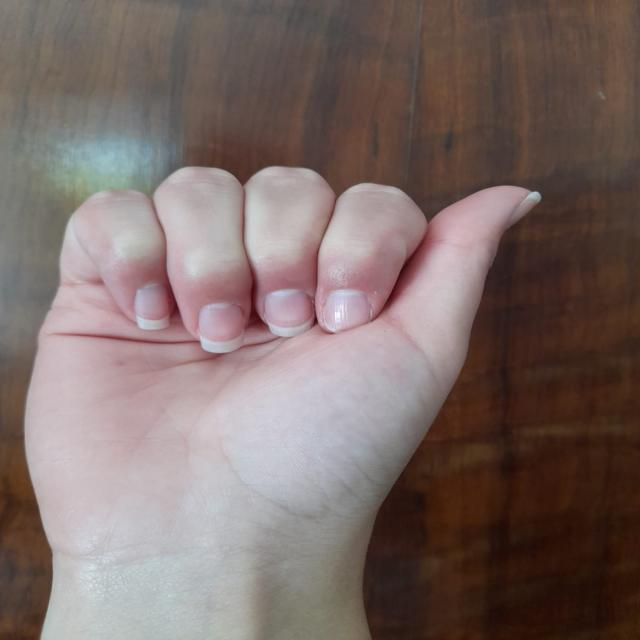A: (2, 152, 562, 608)
